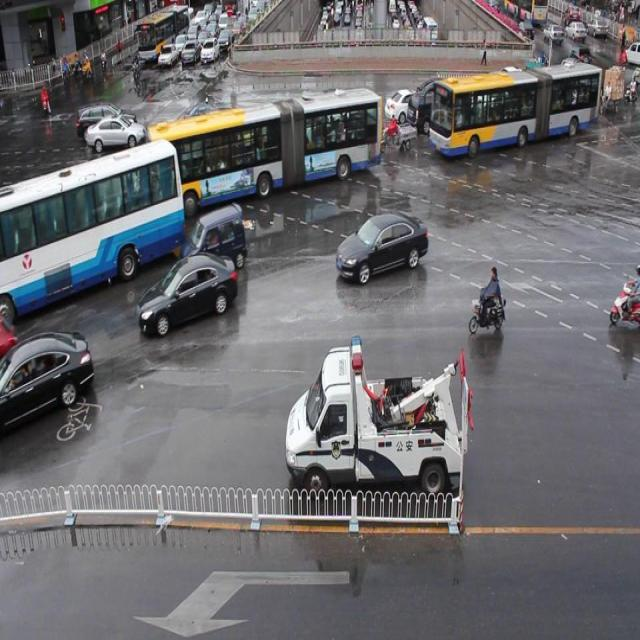bus: (286, 333, 474, 494)
car: (1, 335, 92, 432), (140, 254, 237, 333), (336, 213, 428, 276), (182, 208, 248, 271), (192, 113, 250, 161), (405, 90, 460, 135), (87, 114, 146, 153), (209, 125, 254, 174), (77, 103, 136, 139), (314, 107, 355, 147), (385, 85, 427, 124), (179, 101, 227, 135), (416, 77, 470, 106), (306, 95, 349, 127), (320, 88, 361, 121), (469, 86, 508, 118), (491, 62, 529, 94), (498, 72, 531, 104)
van: (1, 148, 184, 322), (148, 91, 382, 208), (431, 66, 602, 156)
